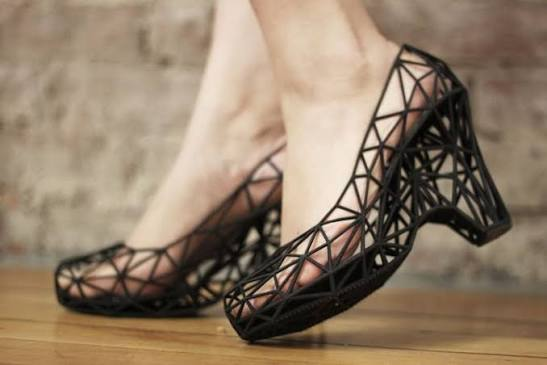3d print: (54, 0, 510, 341)
